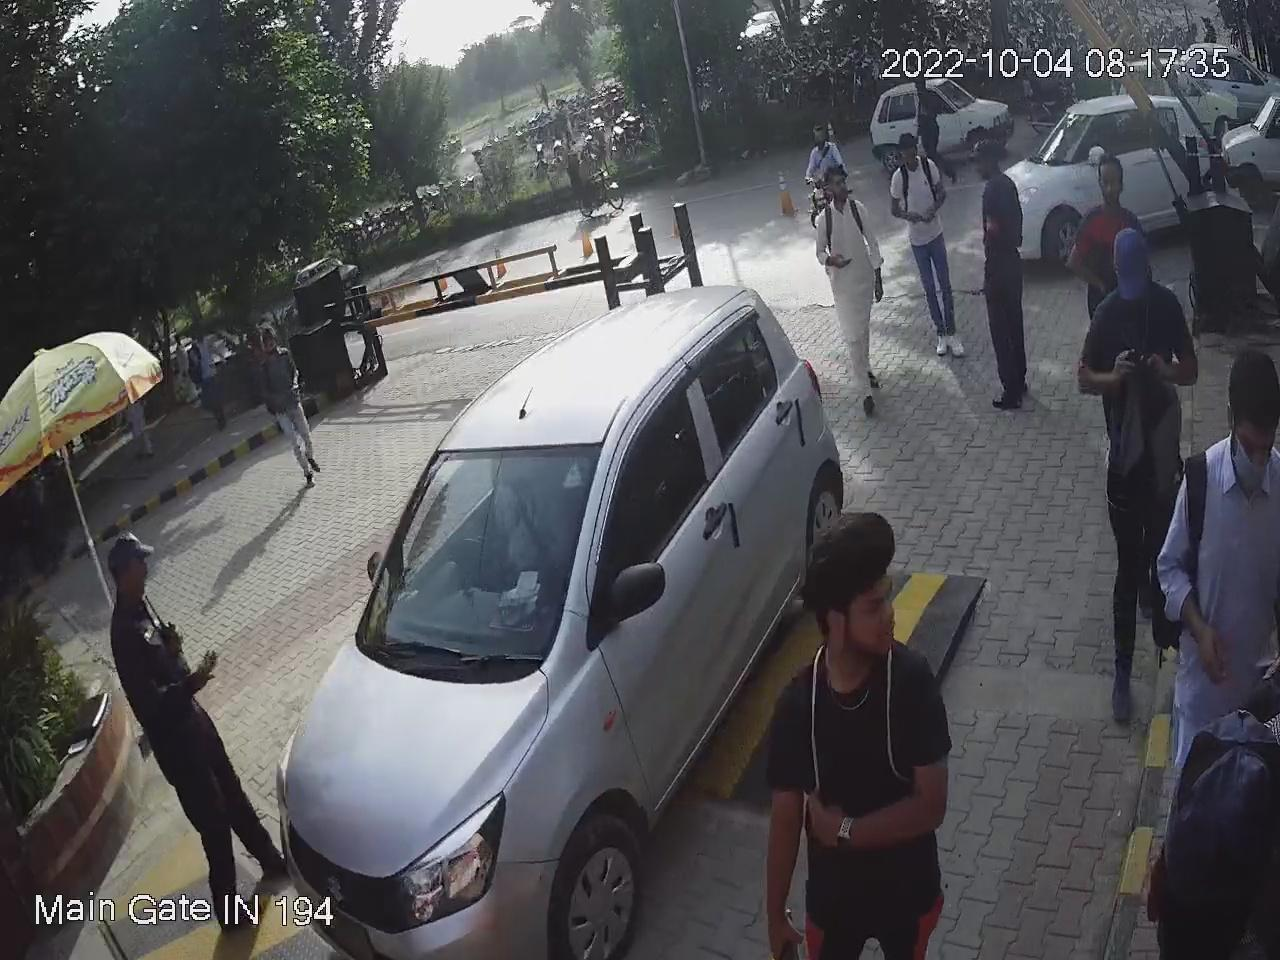windshield: (346, 440, 601, 665)
